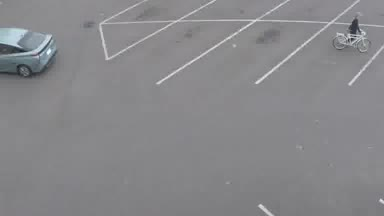car: (0, 27, 57, 79)
person: (333, 11, 373, 55)
